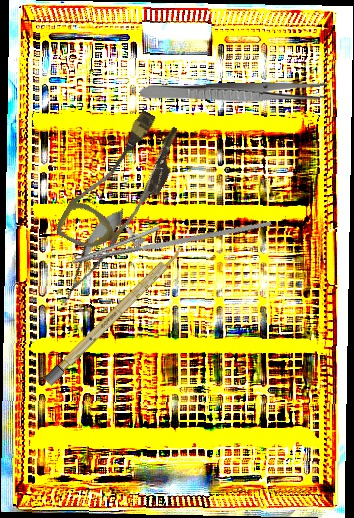Cannula: (53, 100, 191, 268)
Dressing Forceps: (139, 81, 330, 105)
Micro Scissor: (50, 200, 134, 314)
Needle Holder: (66, 183, 273, 288)
Scalpel Handle: (42, 243, 187, 387)
